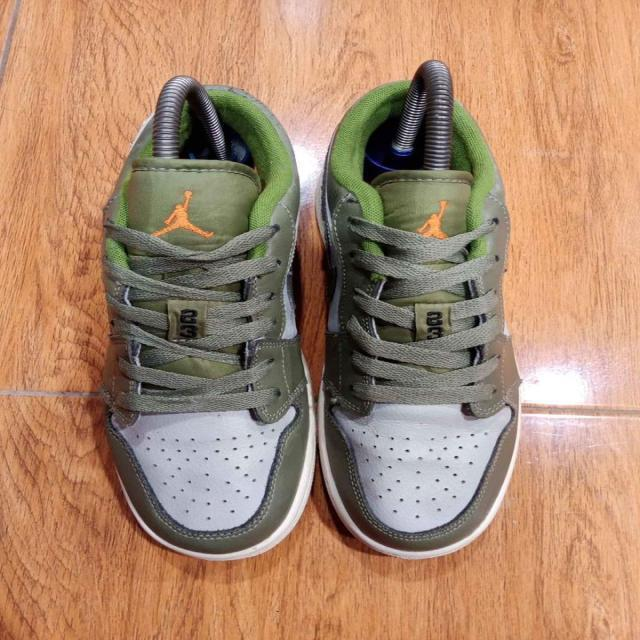nike original jordan 1: (101, 85, 318, 563), (314, 80, 524, 562)
